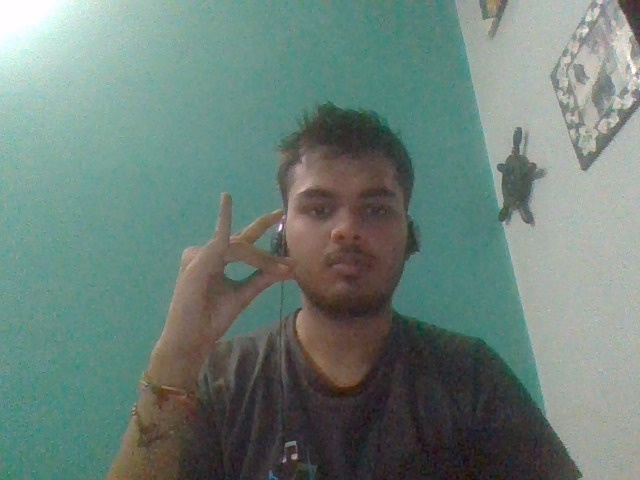no: (164, 194, 297, 341)
